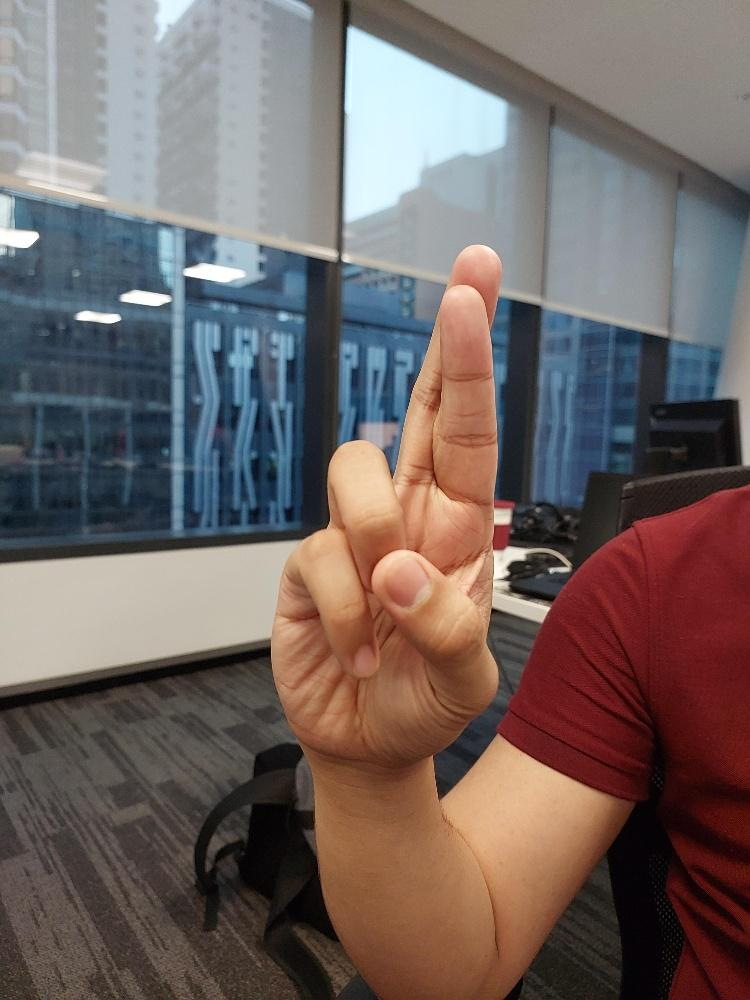r: (266, 240, 505, 778)
